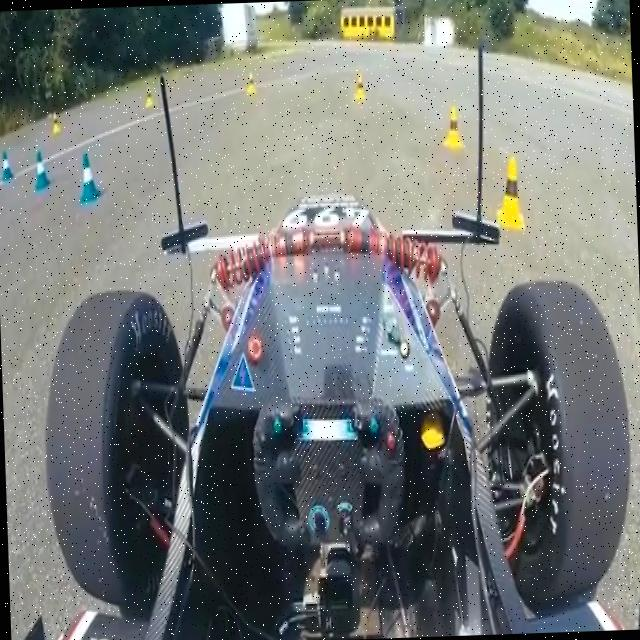blue_cone: (77, 152, 101, 204), (34, 150, 50, 190), (0, 149, 15, 183)
yellow_cone: (494, 156, 526, 231), (442, 105, 464, 149), (353, 71, 367, 101), (244, 71, 256, 94), (144, 84, 154, 108), (52, 110, 61, 134)
